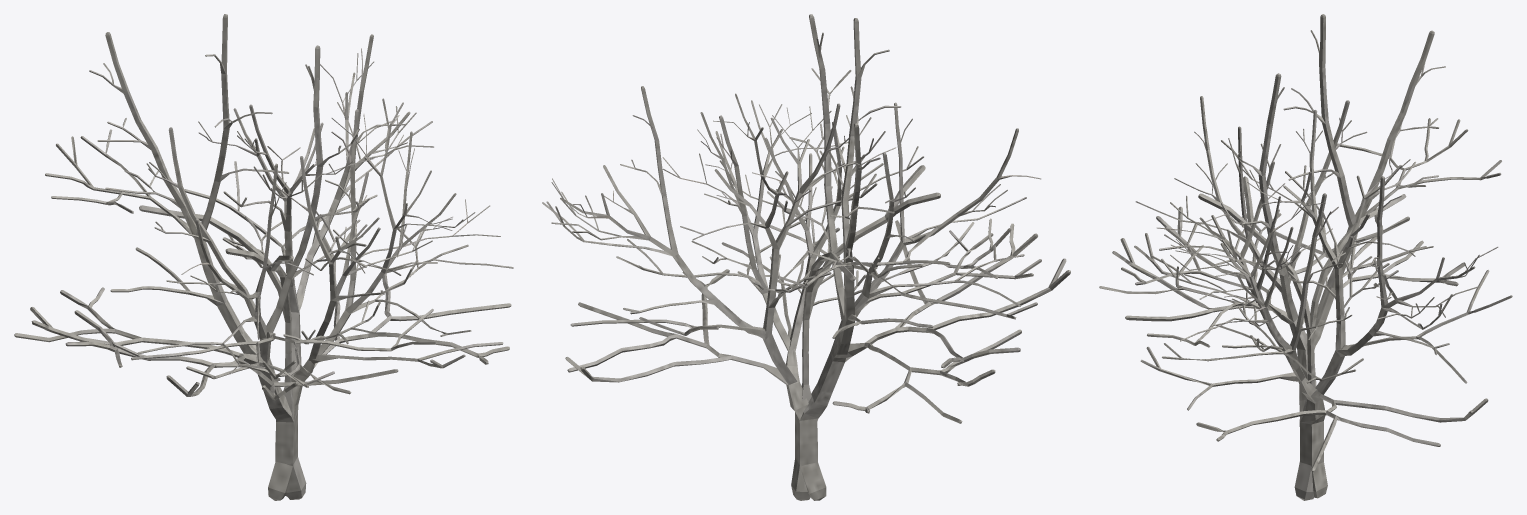
The model's file is dead_trees_0.obj.
3 renders of one model, left to right at view 1: azimuth 30°, elevation 25°; view 2: azimuth 150°, elevation 25°; view 3: azimuth 270°, elevation 25°, orthographic. The views are drawn at different scales.
Visible parts, largest first — view 1: Mesh4 Walnut__1 Model, Mesh11 Walnut__1 Model, Mesh10 Walnut__1 Model, Mesh7 Walnut__1 Model, Mesh5 Walnut__1 Model, Mesh19 Walnut__1 Model, Mesh15 Walnut__1 Model, Mesh6 Walnut__1 Model, Mesh17 Walnut__1 Model, Mesh2 Walnut__1 Model, Mesh18 Walnut__1 Model, Mesh1 Walnut__1 Model; view 2: Mesh4 Walnut__1 Model, Mesh11 Walnut__1 Model, Mesh10 Walnut__1 Model, Mesh7 Walnut__1 Model, Mesh5 Walnut__1 Model, Mesh6 Walnut__1 Model, Mesh17 Walnut__1 Model, Mesh15 Walnut__1 Model, Mesh16 Walnut__1 Model, Mesh18 Walnut__1 Model, Mesh19 Walnut__1 Model, Mesh2 Walnut__1 Model; view 3: Mesh4 Walnut__1 Model, Mesh11 Walnut__1 Model, Mesh10 Walnut__1 Model, Mesh7 Walnut__1 Model, Mesh5 Walnut__1 Model, Mesh17 Walnut__1 Model, Mesh19 Walnut__1 Model, Mesh6 Walnut__1 Model, Mesh18 Walnut__1 Model, Mesh1 Walnut__1 Model, Mesh16 Walnut__1 Model.
Boxes of the visible parts, box(x1,y1,x2,y2) form: Mesh4 Walnut__1 Model: box(14, 14, 503, 464); Mesh11 Walnut__1 Model: box(184, 34, 433, 375); Mesh10 Walnut__1 Model: box(317, 109, 513, 354); Mesh7 Walnut__1 Model: box(278, 156, 437, 360); Mesh5 Walnut__1 Model: box(313, 230, 509, 368); Mesh19 Walnut__1 Model: box(271, 308, 437, 394); Mesh15 Walnut__1 Model: box(65, 310, 244, 367); Mesh6 Walnut__1 Model: box(368, 273, 511, 333); Mesh17 Walnut__1 Model: box(238, 358, 398, 400); Mesh2 Walnut__1 Model: box(268, 461, 292, 500); Mesh18 Walnut__1 Model: box(186, 341, 334, 387); Mesh1 Walnut__1 Model: box(285, 457, 306, 499); Mesh4 Walnut__1 Model: box(721, 14, 1041, 464); Mesh11 Walnut__1 Model: box(542, 86, 877, 384); Mesh10 Walnut__1 Model: box(616, 93, 848, 350); Mesh7 Walnut__1 Model: box(732, 122, 923, 350); Mesh5 Walnut__1 Model: box(565, 269, 787, 384); Mesh6 Walnut__1 Model: box(567, 302, 707, 372); Mesh17 Walnut__1 Model: box(895, 220, 1037, 327); Mesh15 Walnut__1 Model: box(865, 326, 1020, 368); Mesh16 Walnut__1 Model: box(928, 258, 1070, 329); Mesh18 Walnut__1 Model: box(902, 230, 1041, 293); Mesh19 Walnut__1 Model: box(769, 218, 993, 299); Mesh2 Walnut__1 Model: box(800, 462, 826, 500); Mesh4 Walnut__1 Model: box(1135, 14, 1501, 466); Mesh11 Walnut__1 Model: box(1238, 110, 1512, 394); Mesh10 Walnut__1 Model: box(1162, 182, 1363, 383); Mesh7 Walnut__1 Model: box(1150, 161, 1304, 375); Mesh5 Walnut__1 Model: box(1196, 390, 1488, 441); Mesh17 Walnut__1 Model: box(1112, 238, 1271, 321); Mesh19 Walnut__1 Model: box(1099, 245, 1251, 347); Mesh6 Walnut__1 Model: box(1310, 411, 1440, 471); Mesh18 Walnut__1 Model: box(1121, 223, 1248, 287); Mesh1 Walnut__1 Model: box(1294, 462, 1314, 500); Mesh16 Walnut__1 Model: box(1156, 206, 1268, 292).
Size of the model in its own units: 342 by 362 by 296.
1 material, 1 textured.
